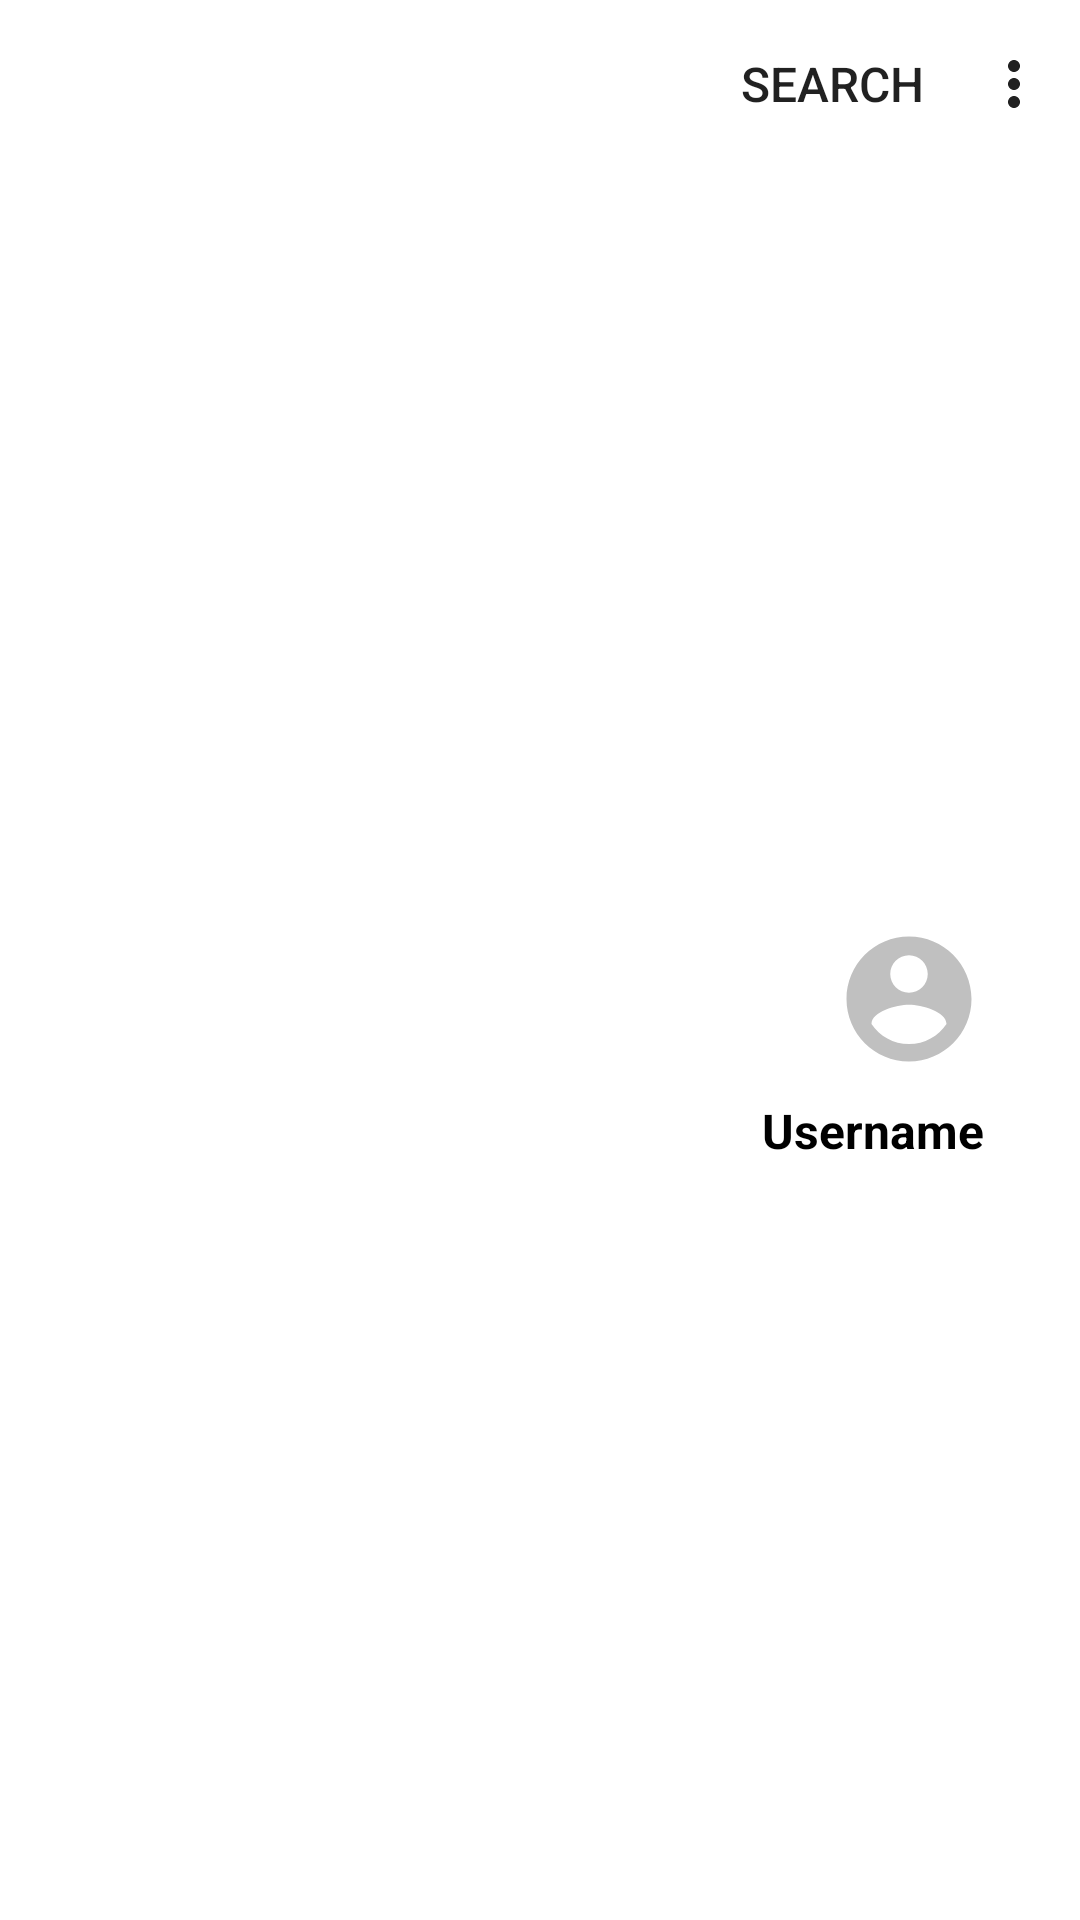

Icons on this 1080*1920 Android screen, each with its box as (x1, y1, x2, y2):
account circle: (846, 936, 972, 1062)
